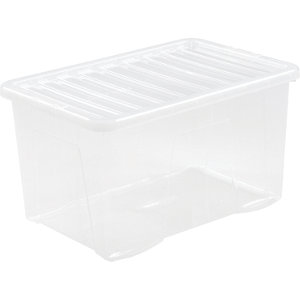PlasticBox: (1, 35, 300, 263)
